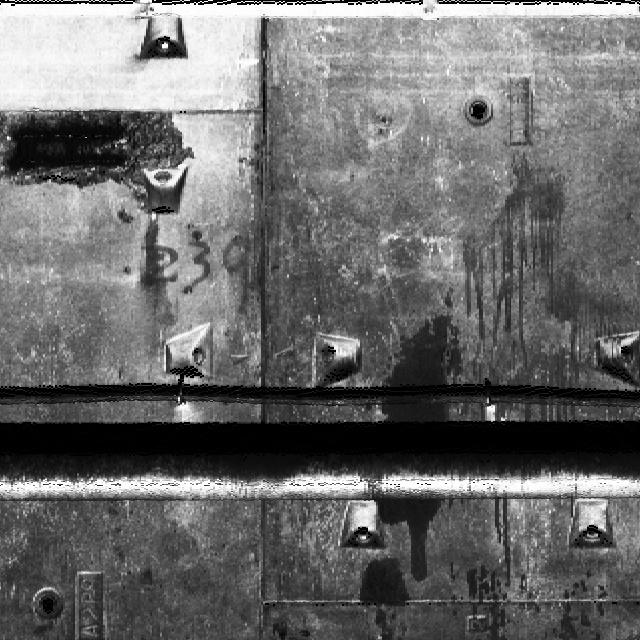leakage: (463, 152, 598, 423), (0, 88, 203, 214), (368, 305, 470, 426), (367, 482, 444, 580), (353, 555, 412, 612), (486, 492, 520, 590)
